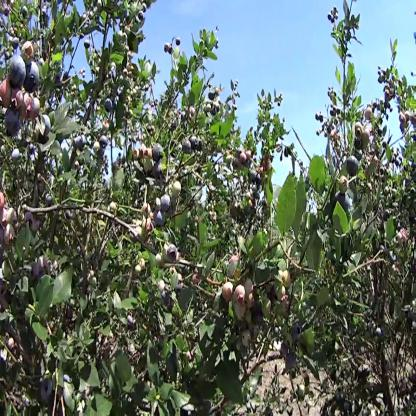intermediate: (17, 91, 43, 120), (1, 81, 15, 115), (221, 281, 235, 308), (235, 282, 247, 313), (351, 124, 366, 143), (240, 149, 249, 167)
mature: (10, 55, 27, 96), (156, 193, 173, 231), (183, 129, 204, 157), (39, 115, 56, 145), (30, 64, 44, 97), (348, 150, 362, 181), (8, 114, 23, 140), (154, 147, 169, 170), (104, 96, 113, 117)
young: (139, 201, 155, 238), (337, 174, 351, 200), (280, 267, 294, 293), (238, 329, 255, 350), (170, 179, 184, 203), (363, 108, 378, 126), (93, 141, 103, 159)
